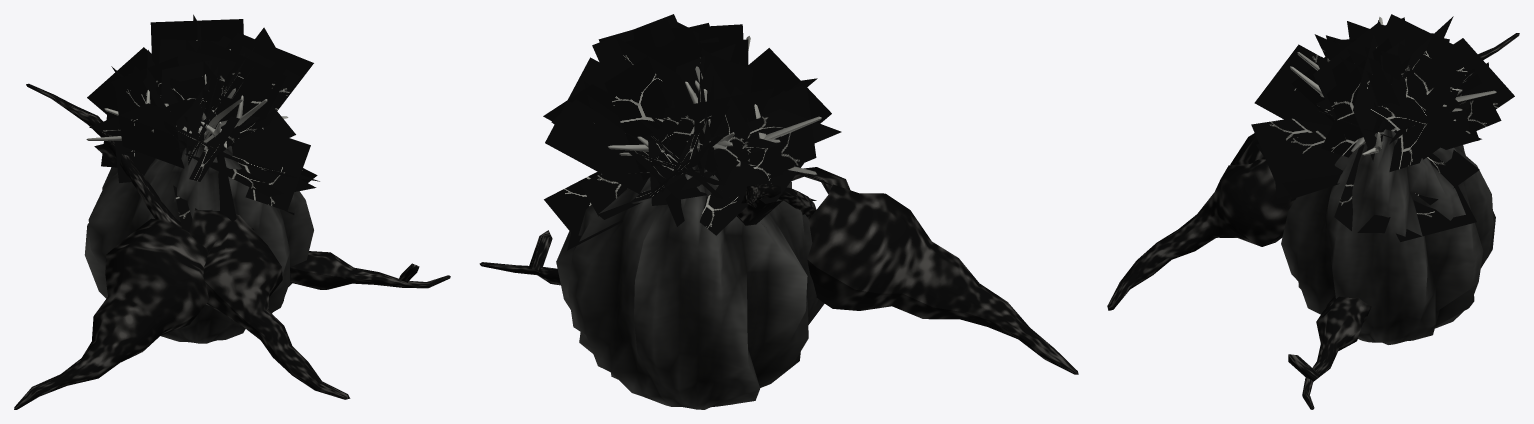
Rendered from ZonTreeDead01.glb.
3 renders of one model, left to right at view 1: azimuth 30°, elevation 25°; view 2: azimuth 150°, elevation 25°; view 3: azimuth 270°, elevation 25°, orthographic. The views are drawn at different scales.
Parts seen in each view (by area): view 1: ZonTreeDead01_limbs; view 2: ZonTreeDead01_limbs; view 3: ZonTreeDead01_limbs.
Boxes of the visible parts, <box> form: ZonTreeDead01_limbs: <box>14,14,450,409</box>; ZonTreeDead01_limbs: <box>479,14,1078,409</box>; ZonTreeDead01_limbs: <box>1107,14,1519,409</box>.
Bounding box in the file's own units: 7.66 × 4.84 × 5.6.
Materials: 4 (3 with a texture image).
